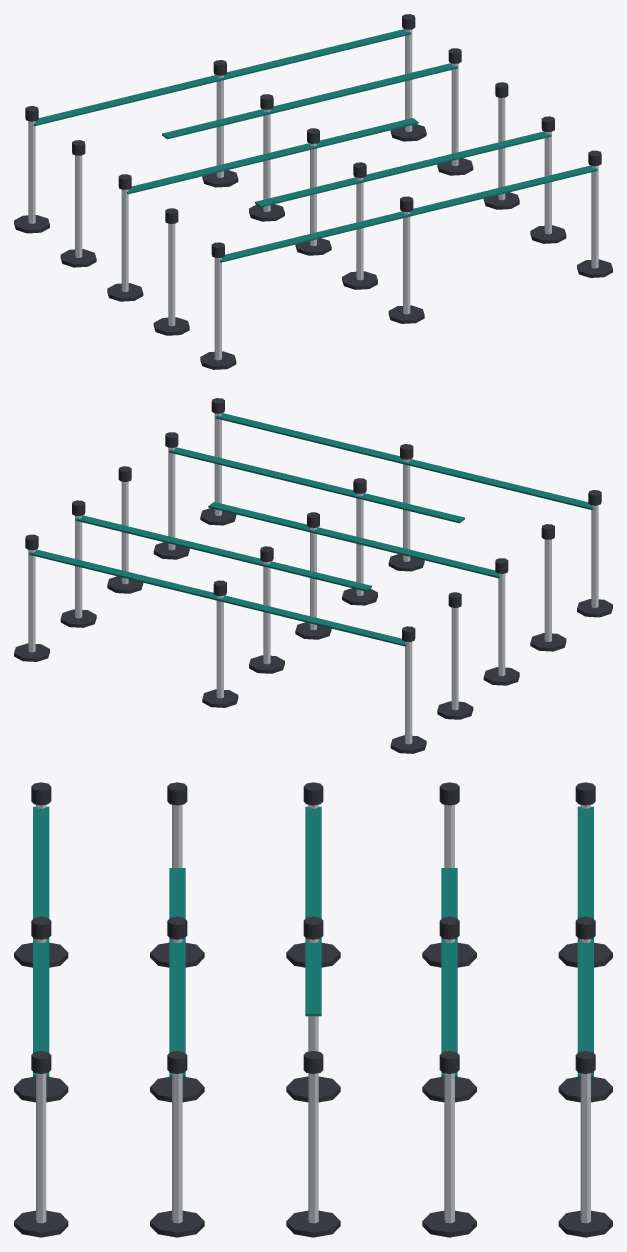
File: PostesCola.fbx
3 renders of one model, top to bottom at view 1: azimuth 30°, elevation 25°; view 2: azimuth 150°, elevation 25°; view 3: azimuth 270°, elevation 25°, orthographic. The views are drawn at different scales.
Visible parts, largest first — view 1: PostesCola; view 2: PostesCola; view 3: PostesCola.
Part boxes in pixels (<box>): PostesCola: <box>14,14,612,369</box>; PostesCola: <box>14,398,612,753</box>; PostesCola: <box>14,782,612,1237</box>.
Size of the model in its own units: 7.6 by 2.08 by 6.6.
Materials: 1 (1 with a texture image).
